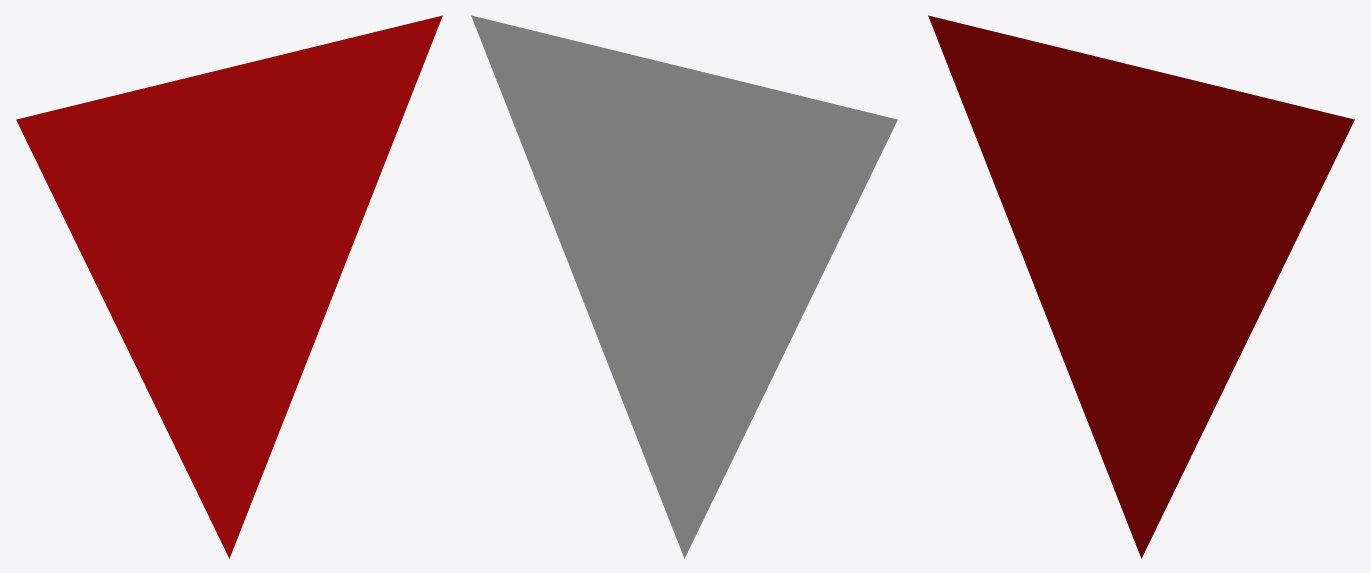
Rendered from bunting-flag.glb.
3 renders of one model, left to right at view 1: azimuth 30°, elevation 25°; view 2: azimuth 150°, elevation 25°; view 3: azimuth 330°, elevation 25°, orthographic.
Size of the model in its own units: 0.5 by 0.55 by 0.004.
